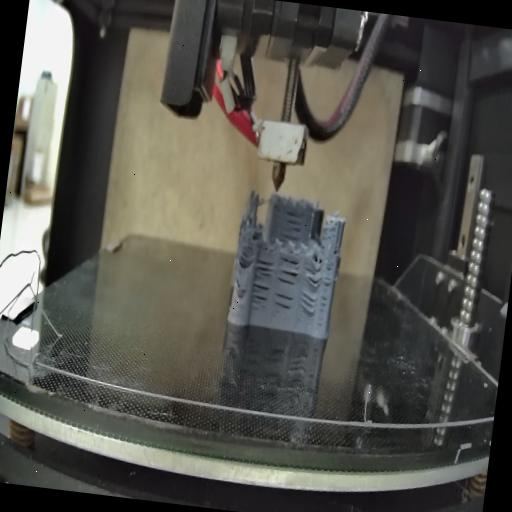cracks: (316, 265, 333, 328), (276, 208, 305, 244), (276, 254, 302, 288), (300, 263, 322, 292), (272, 288, 296, 314), (252, 281, 272, 308), (253, 255, 275, 279), (233, 248, 251, 272), (298, 294, 316, 317), (228, 277, 244, 296), (332, 243, 338, 259)
